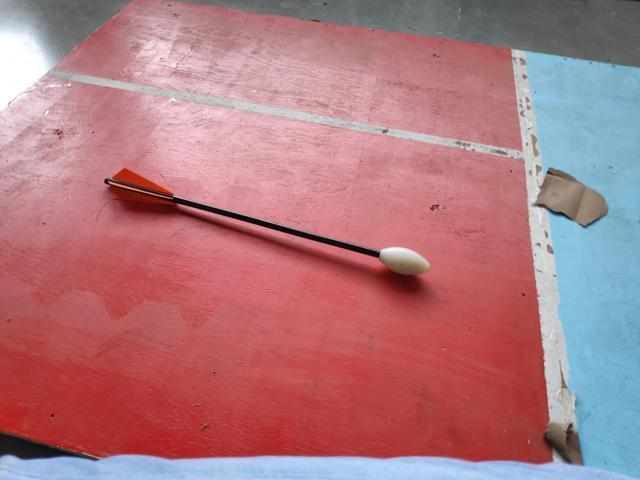Head: (378, 242, 435, 280)
Tail: (101, 165, 175, 210)
